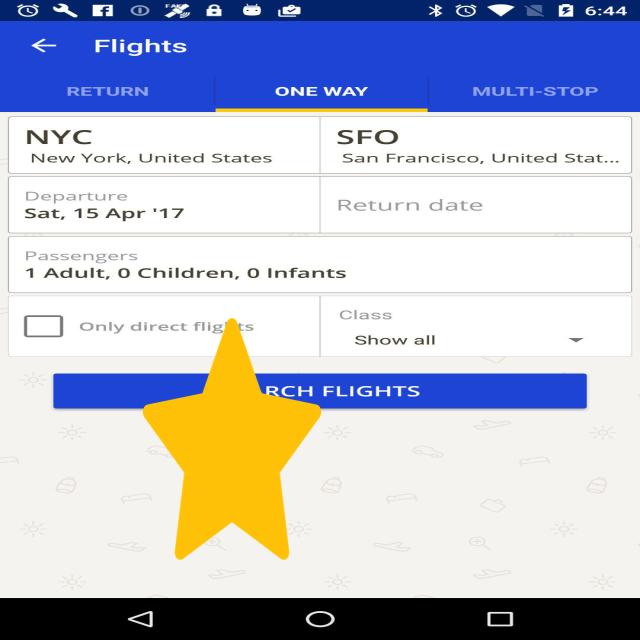forced continuity: (143, 318, 321, 560)
